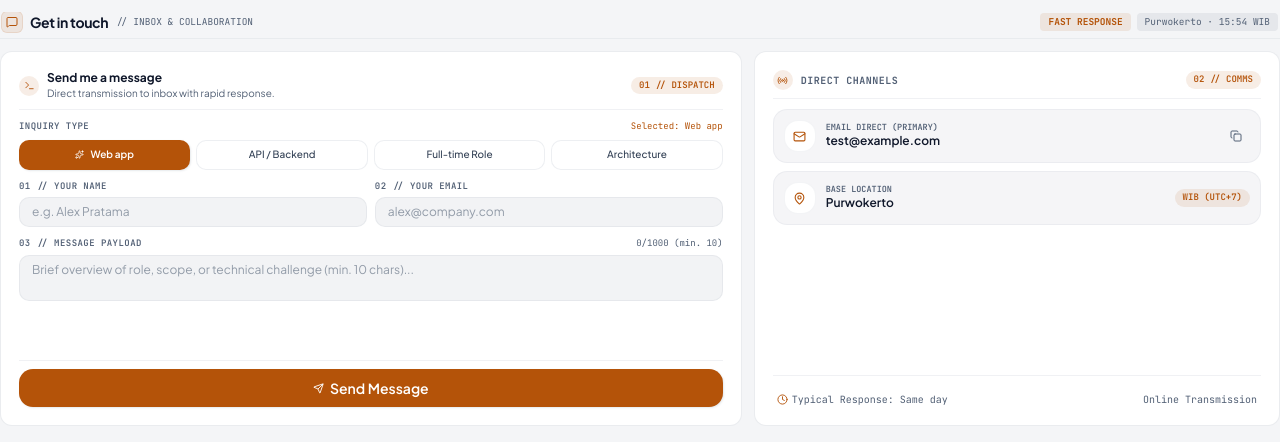
Test: ContactSection › submits contact payload matching backend contract
The image size is (1280, 442).
Step 1. Type "Alex Pratama" into the field labelled "01 // Your Name" → x=193, y=212, box [19,197,367,227]
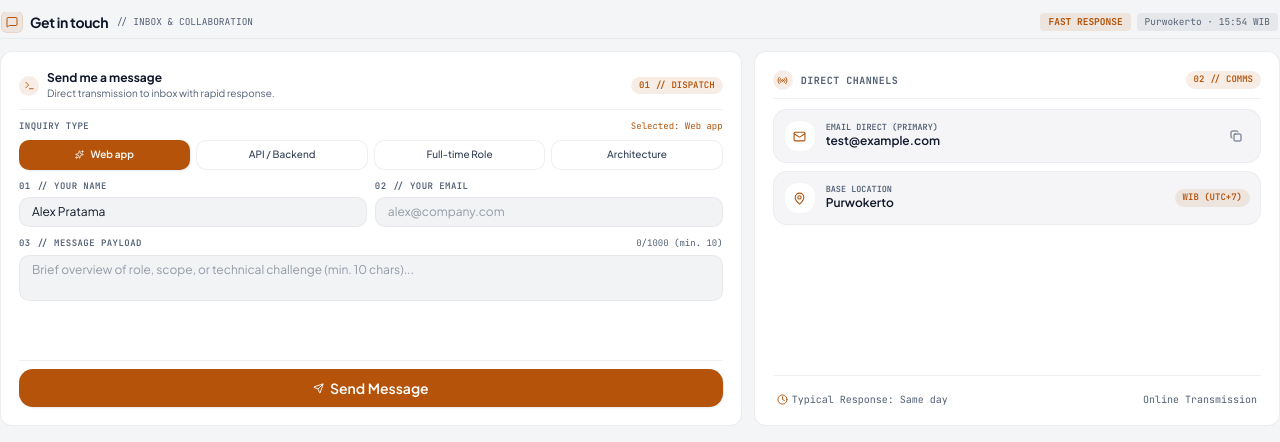
Step 2. Type "alex@example.com" into the field labelled "02 // Your Email" → x=549, y=212, box [375,197,723,227]
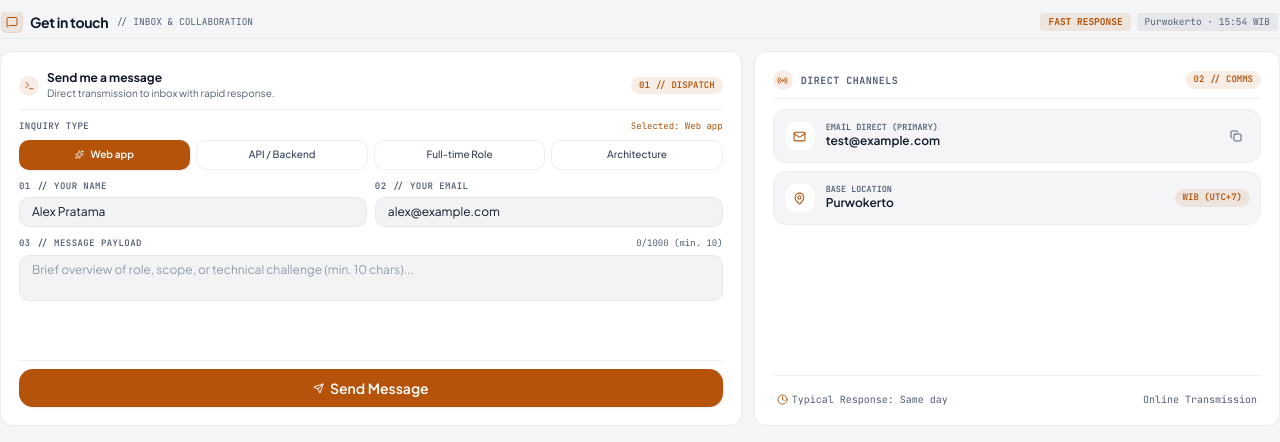
Step 3. Replace the text in the text box labelled "03 // Message Payload" with "Looking to build a scalable web application" → x=371, y=278, box [19,254,723,300]
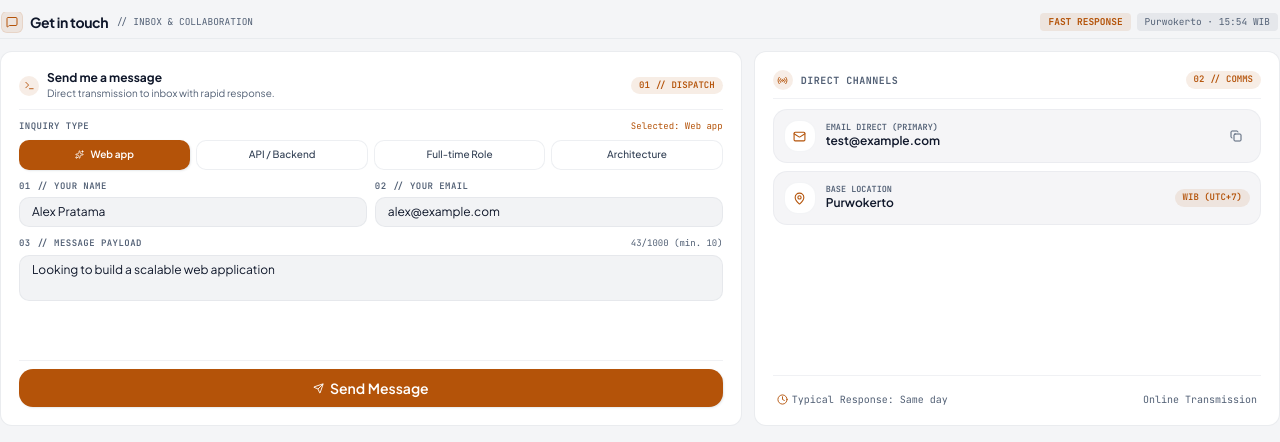
Step 4. Click the button "Send Message" → x=371, y=388, box [19,369,723,407]
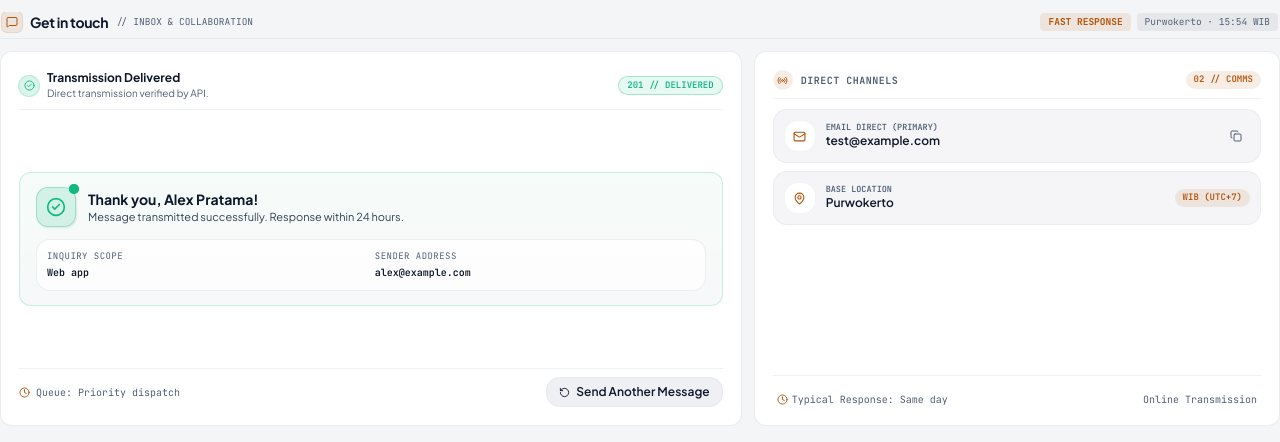
expect the text "Message transmitted successfully. Response within 24 hours." is shown: met, box [88,208,404,225]
